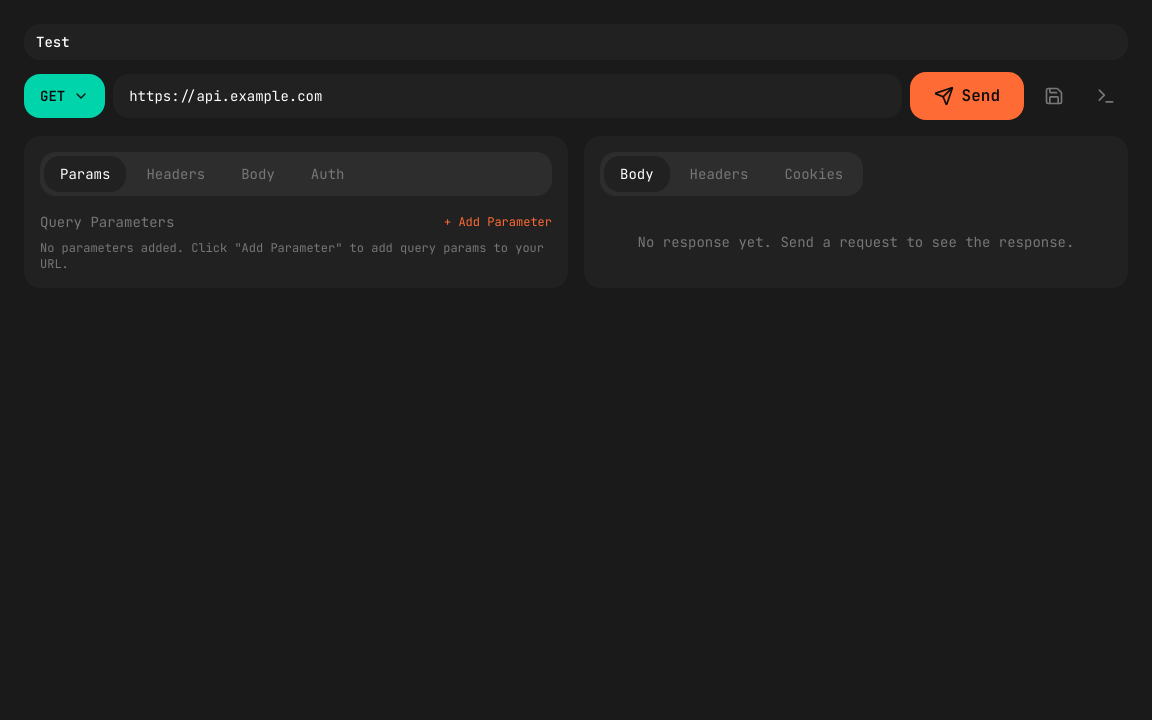
Test case: RequestBuilder › shows body editor when selecting JSON body type
The width and height of the screenshot is (1152, 720).
Note: Click the first body button (request tab)
What coordinates should you click on to do the following:
click the 1st button "body"
I would click on:
 (258, 174)
Its box is [225,156,291,192].
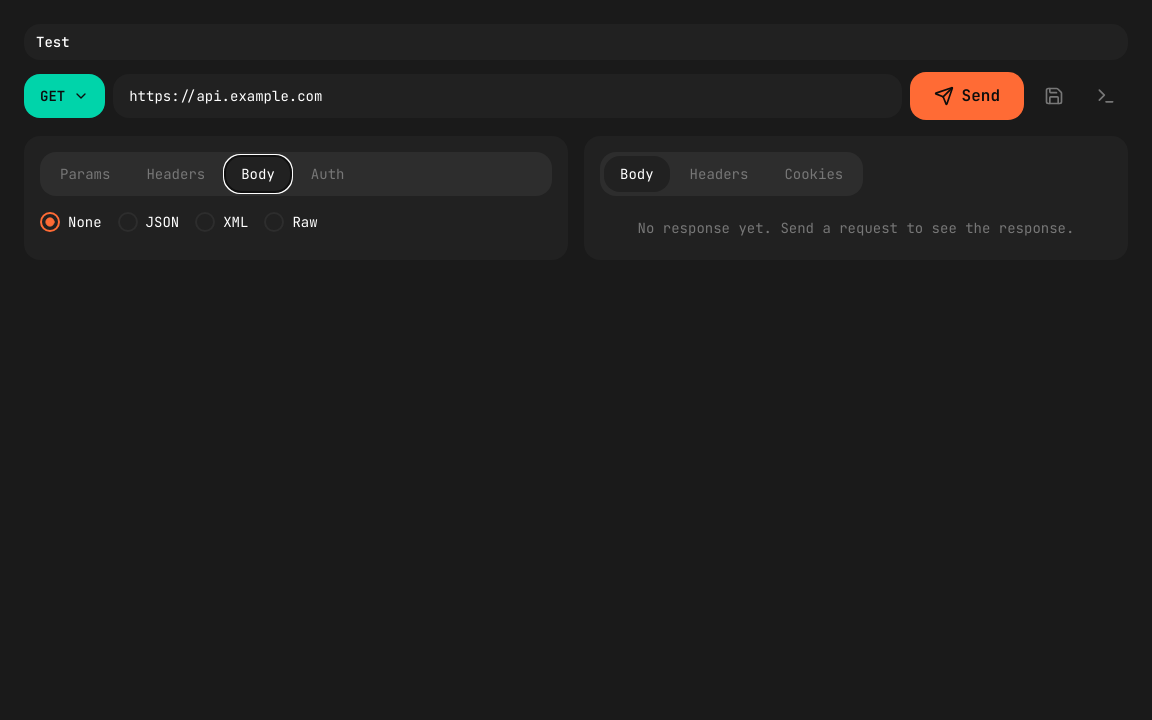
Note: Click on JSON option in RadioGroup
What coordinates should you click on to do the following:
click the button "JSON"
I would click on:
 (148, 222)
Its box is [118,212,179,232].
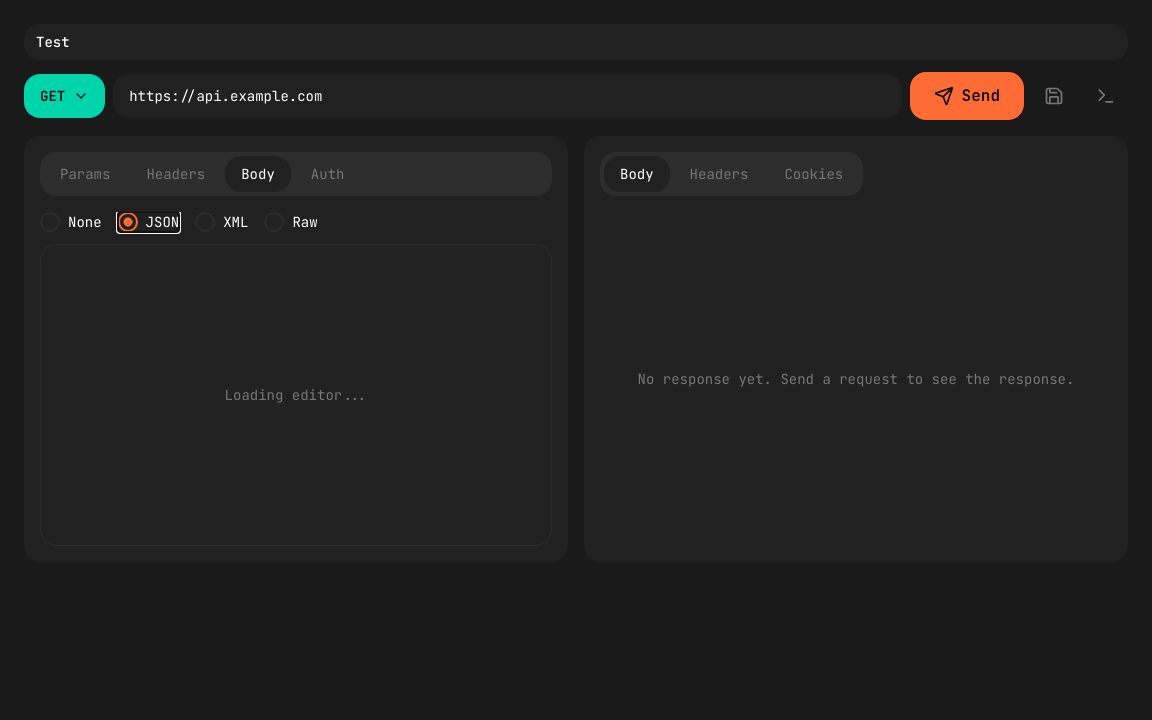
Now the text "Loading editor..." is shown, box [225,386,367,404]
